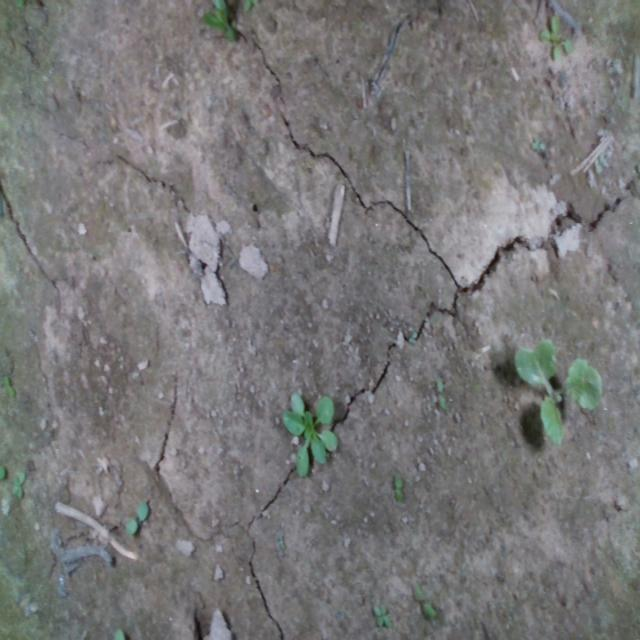weed: (123, 498, 149, 537), (413, 578, 437, 617), (372, 602, 390, 628), (435, 373, 447, 409), (11, 470, 25, 500), (393, 472, 403, 502), (3, 372, 14, 397)
